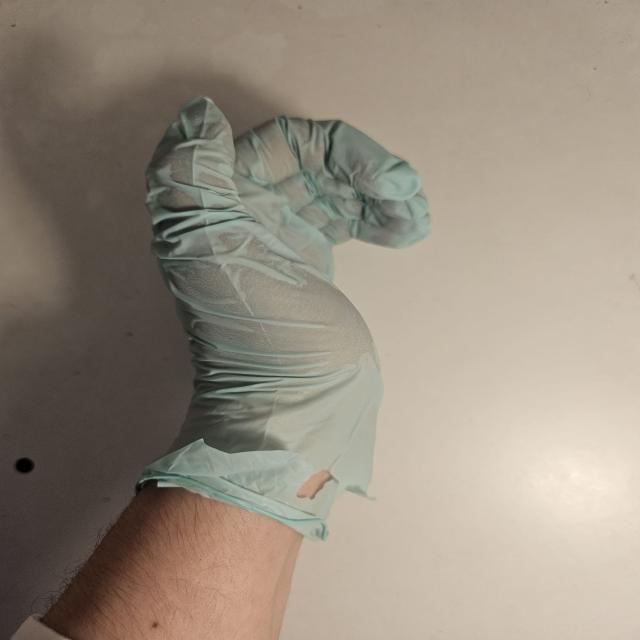gloves_damaged: (134, 92, 436, 539)
